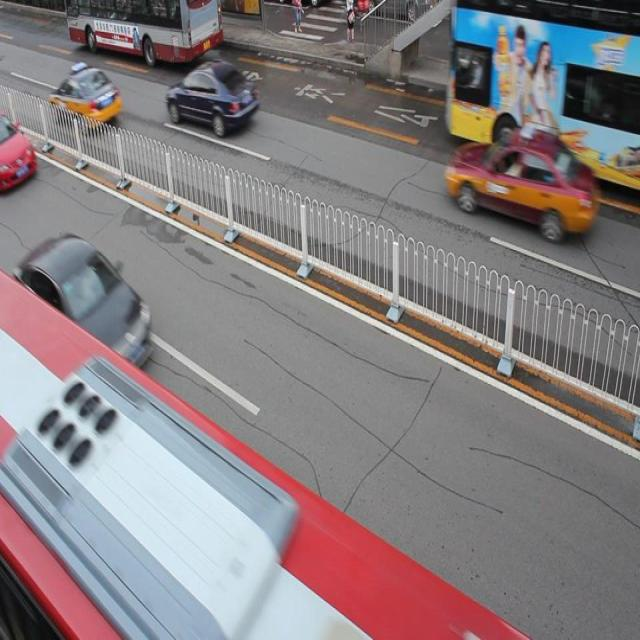car: (16, 233, 152, 370), (444, 123, 596, 242), (165, 61, 258, 136), (50, 64, 123, 134), (1, 114, 38, 194)
van: (1, 269, 524, 640), (446, 1, 640, 189), (65, 1, 222, 64)
